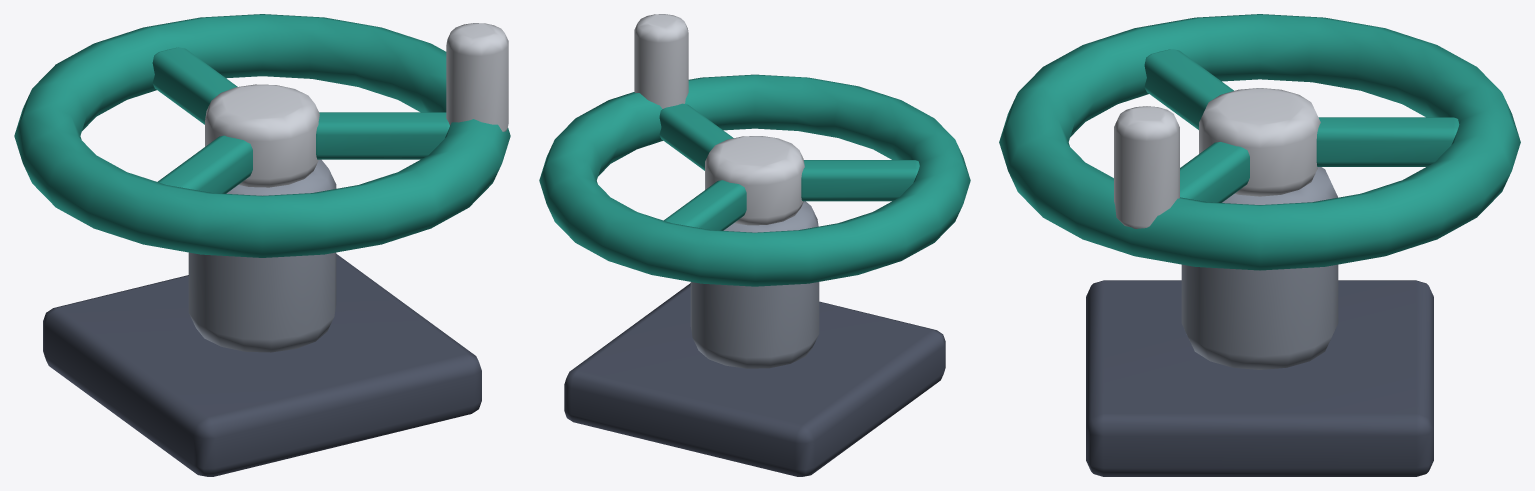
File: Ctrl_Valve.fbx
The picture shows the model from 3 angles, left to right: view 1: azimuth 30°, elevation 25°; view 2: azimuth 150°, elevation 25°; view 3: azimuth 270°, elevation 25°; orthographic projection. The views are drawn at different scales.
Visible parts, largest first — view 1: Ctrl_Valve.Move_Wheel, Ctrl_Valve.Base, Ctrl_Valve.Bonnet; view 2: Ctrl_Valve.Move_Wheel, Ctrl_Valve.Base, Ctrl_Valve.Bonnet; view 3: Ctrl_Valve.Move_Wheel, Ctrl_Valve.Base, Ctrl_Valve.Bonnet.
Boxes of the visible parts, box(x1,y1,x2,y2) form: Ctrl_Valve.Move_Wheel: box(14, 14, 510, 257); Ctrl_Valve.Base: box(43, 254, 481, 476); Ctrl_Valve.Bonnet: box(188, 159, 336, 352); Ctrl_Valve.Move_Wheel: box(539, 14, 970, 286); Ctrl_Valve.Base: box(564, 283, 945, 476); Ctrl_Valve.Bonnet: box(690, 201, 819, 368); Ctrl_Valve.Move_Wheel: box(999, 14, 1520, 270); Ctrl_Valve.Base: box(1086, 280, 1433, 476); Ctrl_Valve.Bonnet: box(1181, 167, 1338, 369).
Bounding box in the file's own units: 0.3 × 0.24 × 0.3.
1 material, 1 textured.
